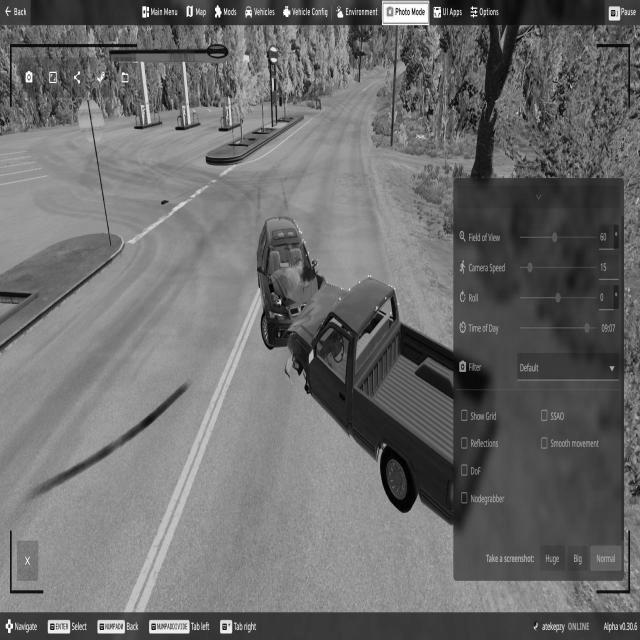accident: (256, 210, 455, 513)
